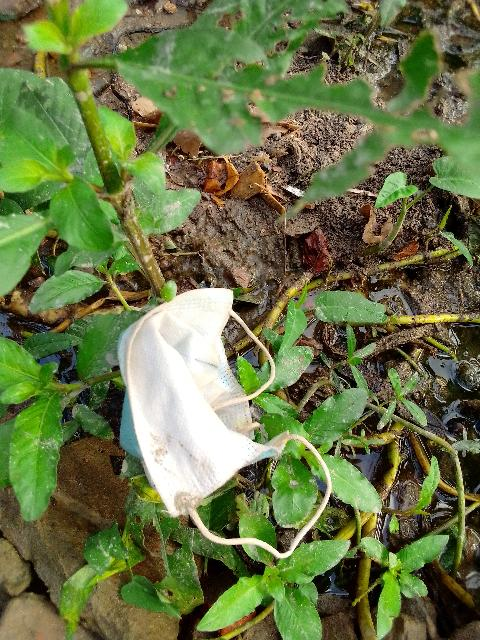mask: (131, 297, 276, 513)
